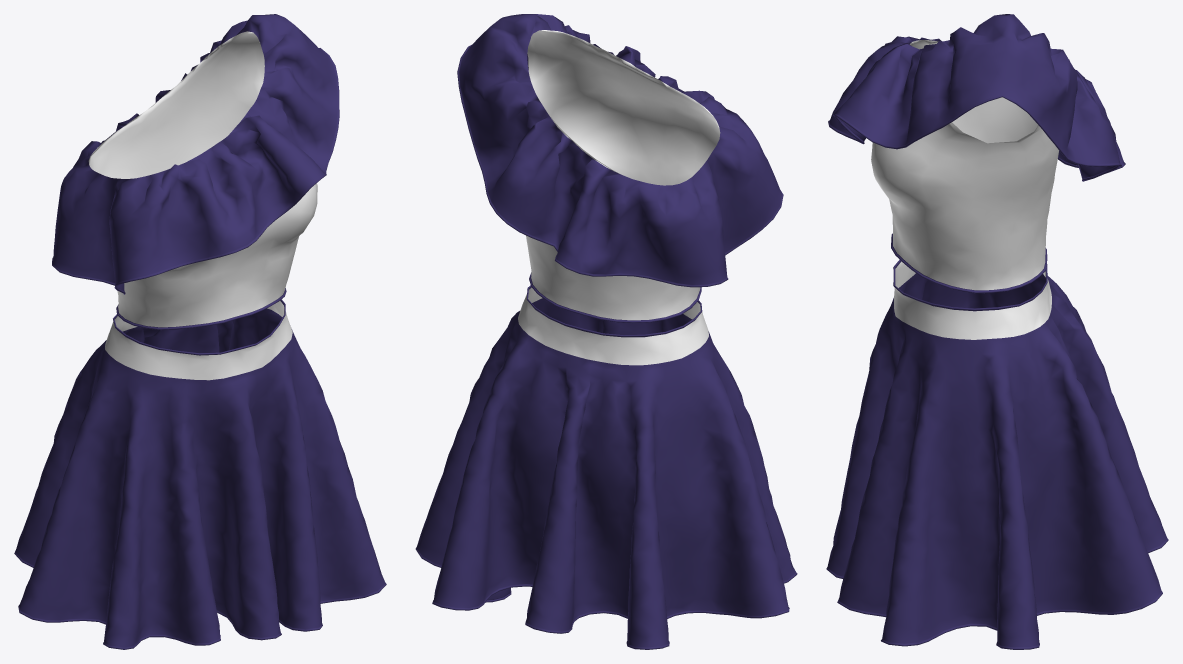
File: input.glb
3 views of the same model, side by side, from view 1: azimuth 30°, elevation 25°; view 2: azimuth 150°, elevation 25°; view 3: azimuth 270°, elevation 25° (orthographic). The views are drawn at different scales.
Parts seen in each view (by area): view 1: Object_3, Object_2; view 2: Object_3, Object_2; view 3: Object_3, Object_2.
Boxes of the visible parts, bbox=[...] form: Object_3: bbox=[14, 14, 386, 649]; Object_2: bbox=[88, 31, 317, 380]; Object_3: bbox=[415, 14, 797, 649]; Object_2: bbox=[518, 30, 720, 365]; Object_3: bbox=[826, 14, 1168, 649]; Object_2: bbox=[871, 40, 1058, 339].
Bounding box in the file's own units: 54.08 × 82.7 × 42.41.
